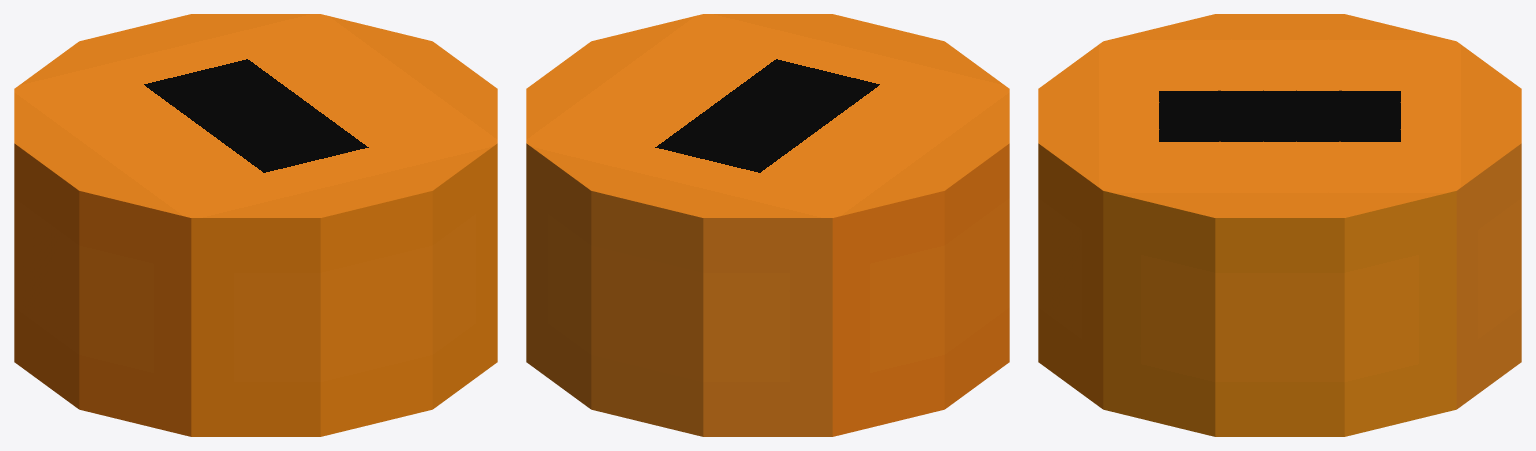
File: cake_orange.glb
3 views of the same model, side by side, from view 1: azimuth 30°, elevation 25°; view 2: azimuth 150°, elevation 25°; view 3: azimuth 270°, elevation 25° (orthographic).
Visible parts, largest first — view 1: cylinder; view 2: cylinder; view 3: cylinder.
Boxes of the visible parts, box(x1,y1,x2,y2) form: cylinder: box(14, 14, 497, 436); cylinder: box(526, 14, 1009, 436); cylinder: box(1038, 14, 1521, 436).
Bounding box in the file's own units: 0.5 × 0.25 × 0.5.
1 material, 1 textured.
